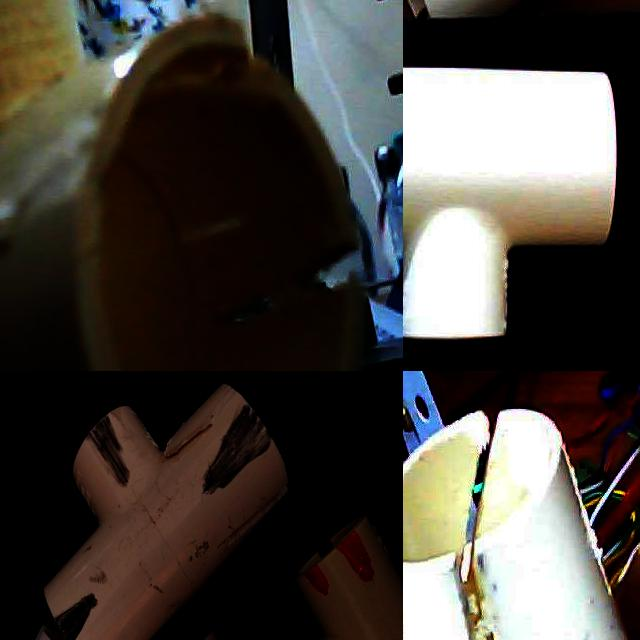Defective: (119, 6, 275, 167), (428, 526, 575, 640), (201, 240, 355, 344), (0, 110, 64, 285), (469, 417, 497, 636), (40, 617, 72, 640)
T Joint: (403, 64, 619, 345), (403, 407, 630, 640), (403, 407, 630, 640)
